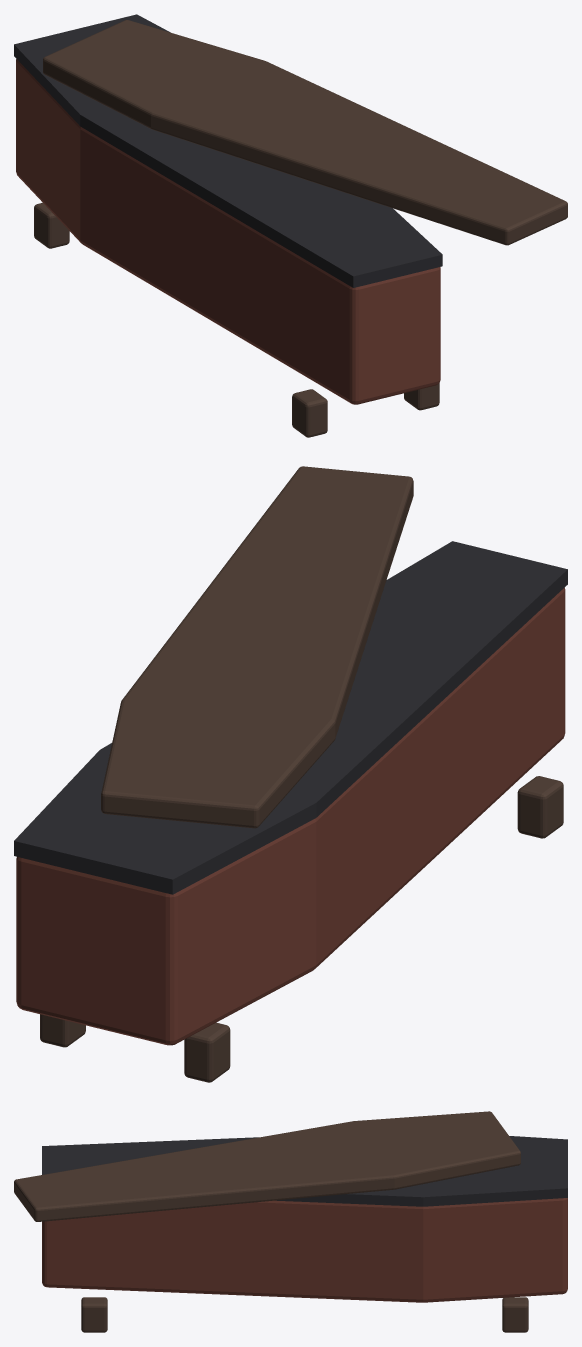
Rendered from coffin_ajar.glb.
The picture shows the model from 3 angles, top to bottom: view 1: azimuth 30°, elevation 25°; view 2: azimuth 150°, elevation 25°; view 3: azimuth 270°, elevation 25°; orthographic projection. The views are drawn at different scales.
Visible parts, largest first — view 1: GD_coffin_ajar__m0, GD_coffin_ajar__m2, GD_coffin_ajar__m1; view 2: GD_coffin_ajar__m0, GD_coffin_ajar__m2, GD_coffin_ajar__m1; view 3: GD_coffin_ajar__m0, GD_coffin_ajar__m2, GD_coffin_ajar__m1.
Part boxes in pixels (x1=…): GD_coffin_ajar__m0: x1=16, y1=59, x2=440, y2=404; GD_coffin_ajar__m2: x1=34, y1=20, x2=567, y2=437; GD_coffin_ajar__m1: x1=14, y1=14, x2=442, y2=287; GD_coffin_ajar__m0: x1=16, y1=587, x2=565, y2=1045; GD_coffin_ajar__m2: x1=40, y1=466, x2=563, y2=1082; GD_coffin_ajar__m1: x1=14, y1=541, x2=567, y2=894; GD_coffin_ajar__m0: x1=42, y1=1198, x2=567, y2=1302; GD_coffin_ajar__m2: x1=14, y1=1111, x2=528, y2=1332; GD_coffin_ajar__m1: x1=42, y1=1136, x2=567, y2=1206.
Size of the model in its own units: 0.8961 by 0.69 by 2.11.
